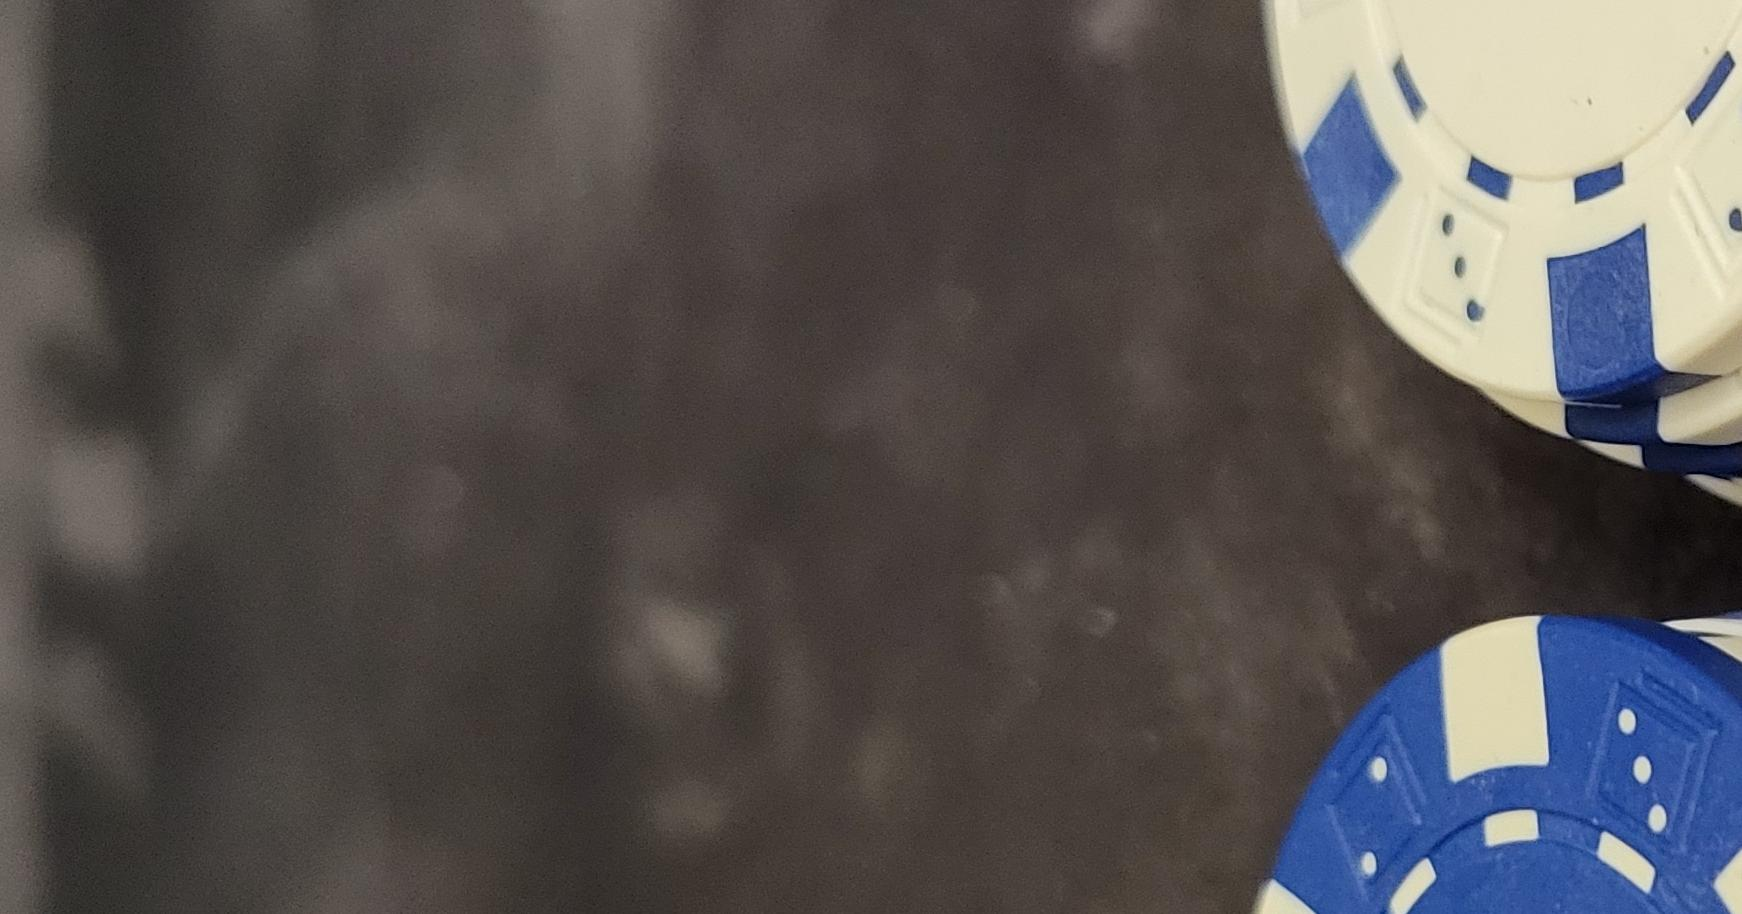Chip: (1, 340, 1251, 914)
